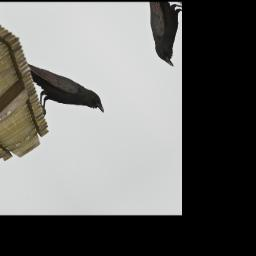Crow: (11, 42, 109, 140)
